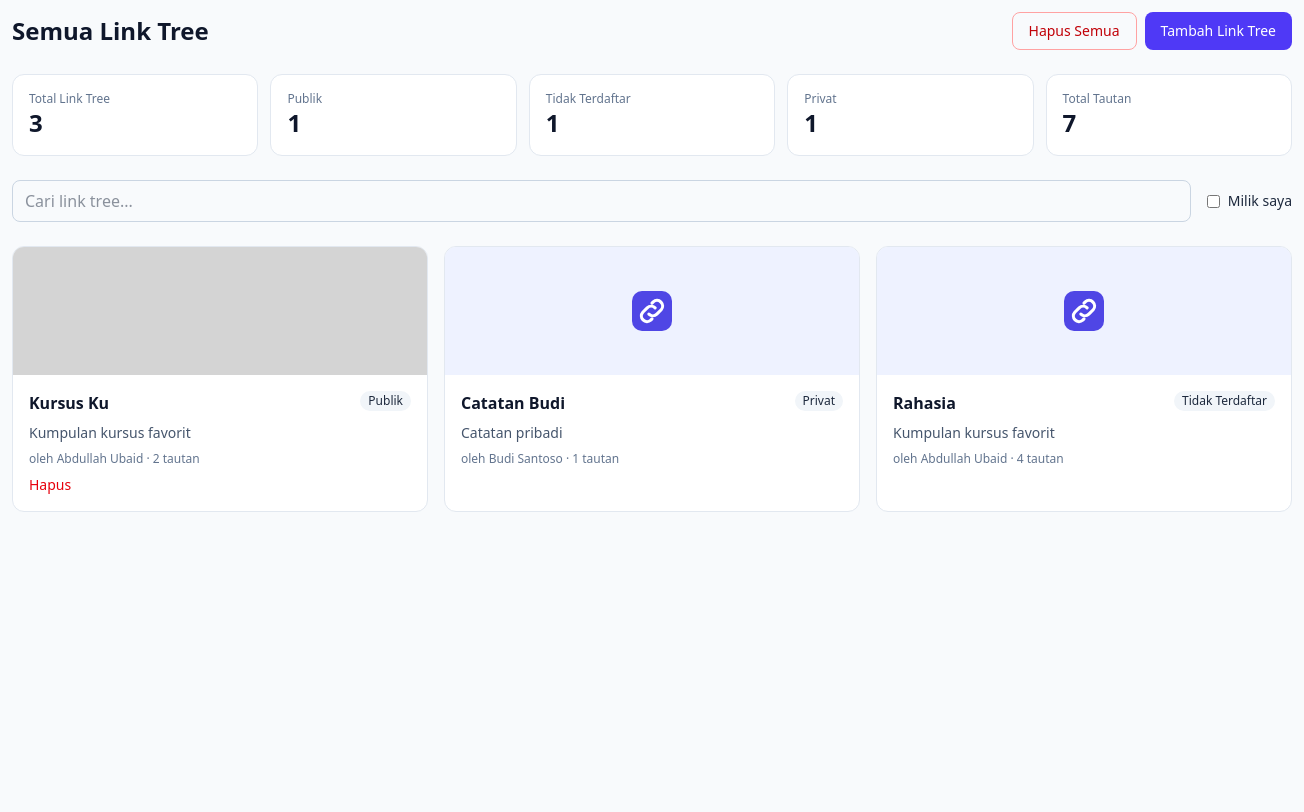
Test: HomePage › menghapus satu link tree setelah konfirmasi
Click the button with aria-label "Hapus Kursus Ku": (50, 485) 29,475 -> 71,495
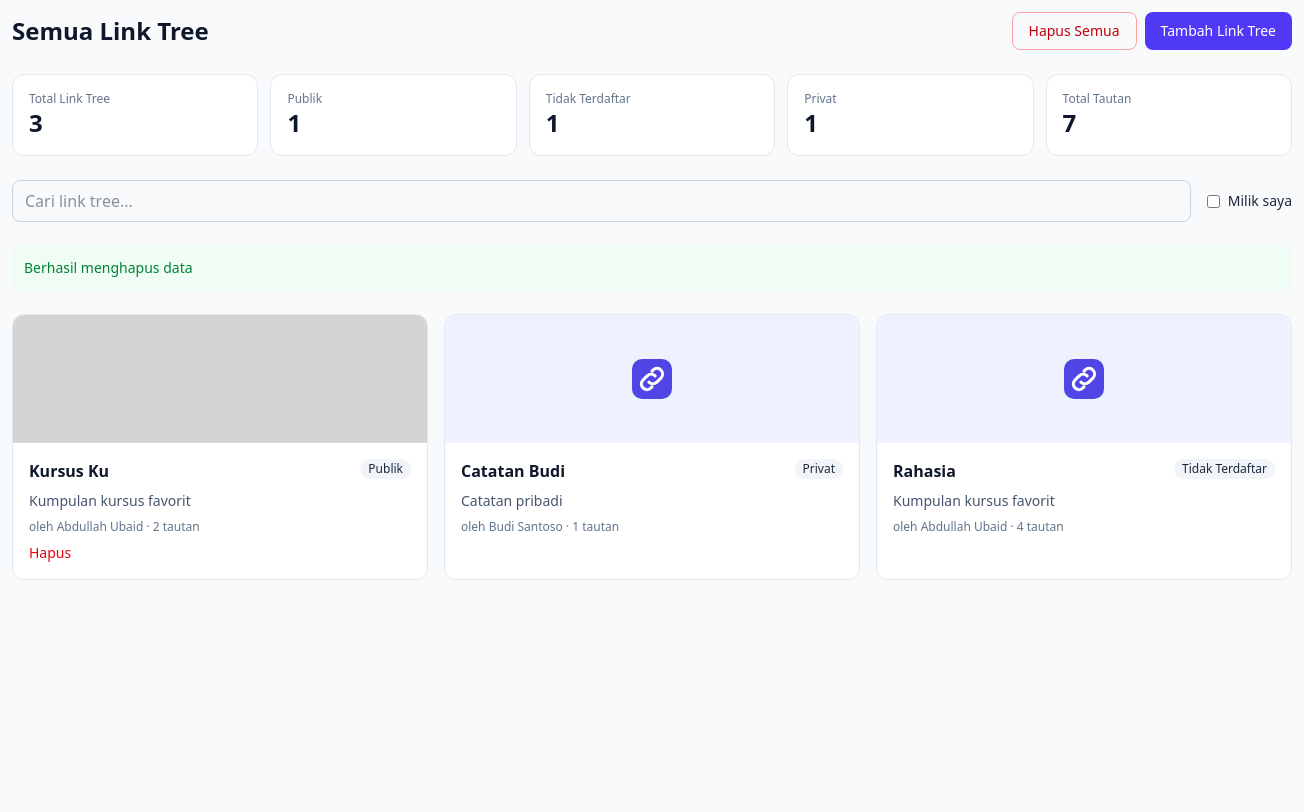
expect the message reads "Berhasil menghapus data": met, box 24,258 -> 193,277
